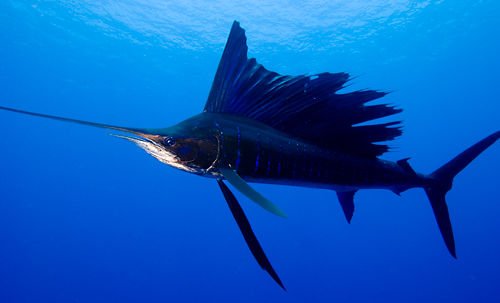fish: (1, 19, 500, 290)
